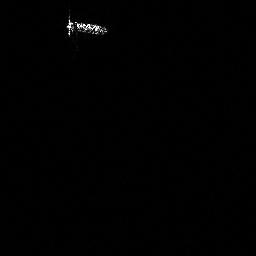ship: (67, 19, 106, 35)
